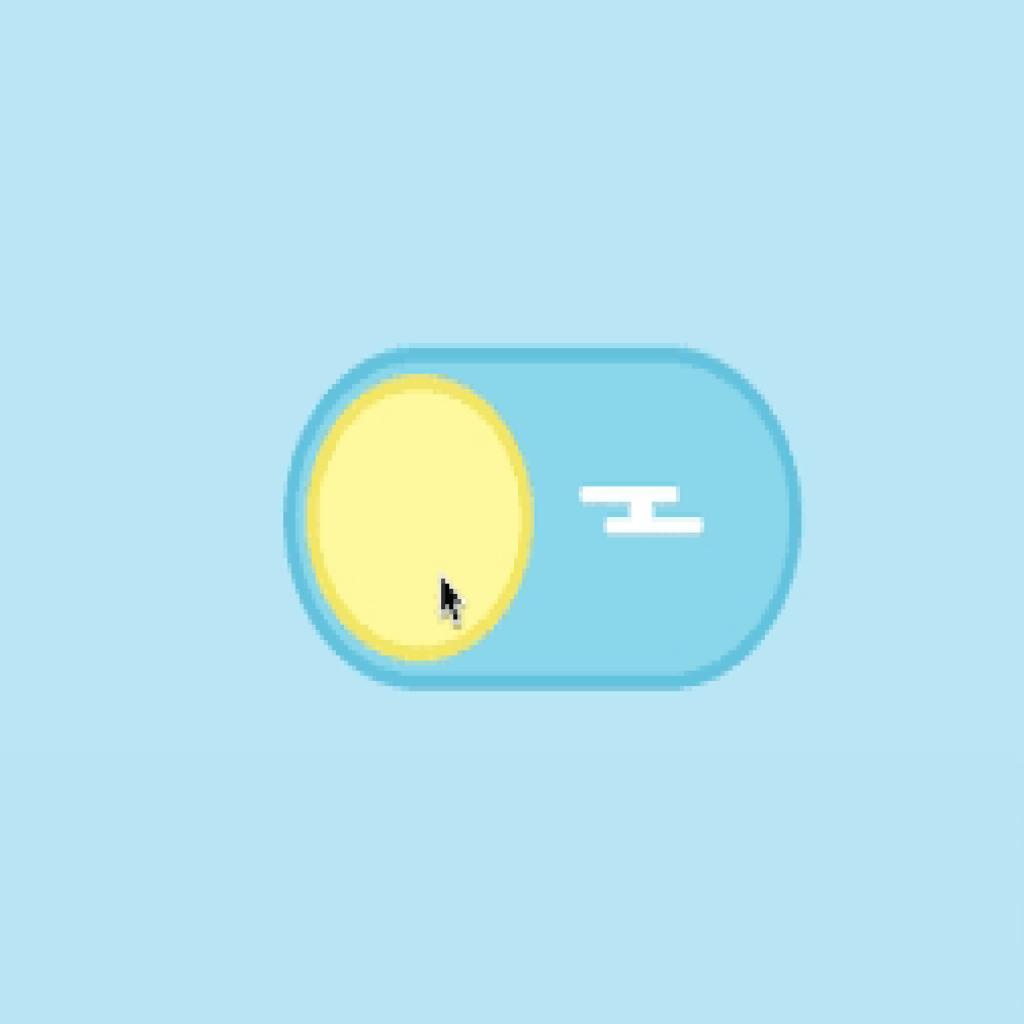switch: (283, 348, 803, 691)
